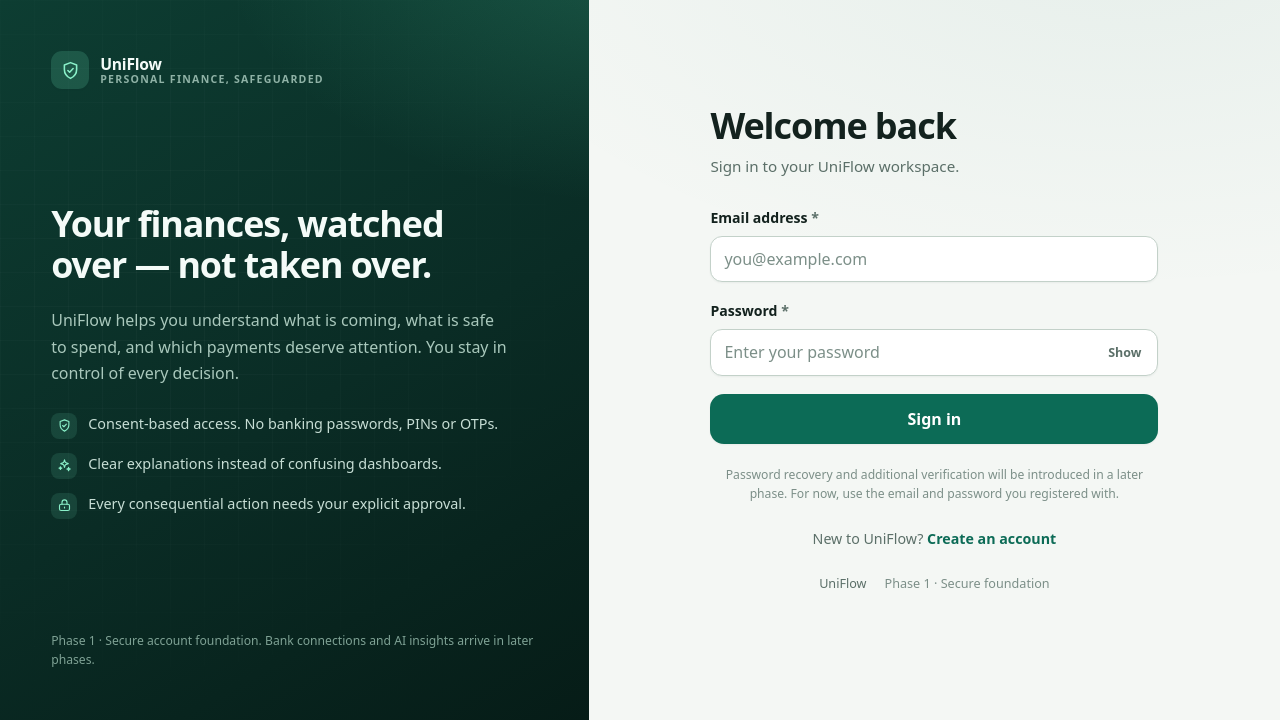
login form › validates empty fields
Step 1. Click the button "Sign in" → x=934, y=419, box [710, 394, 1158, 444]
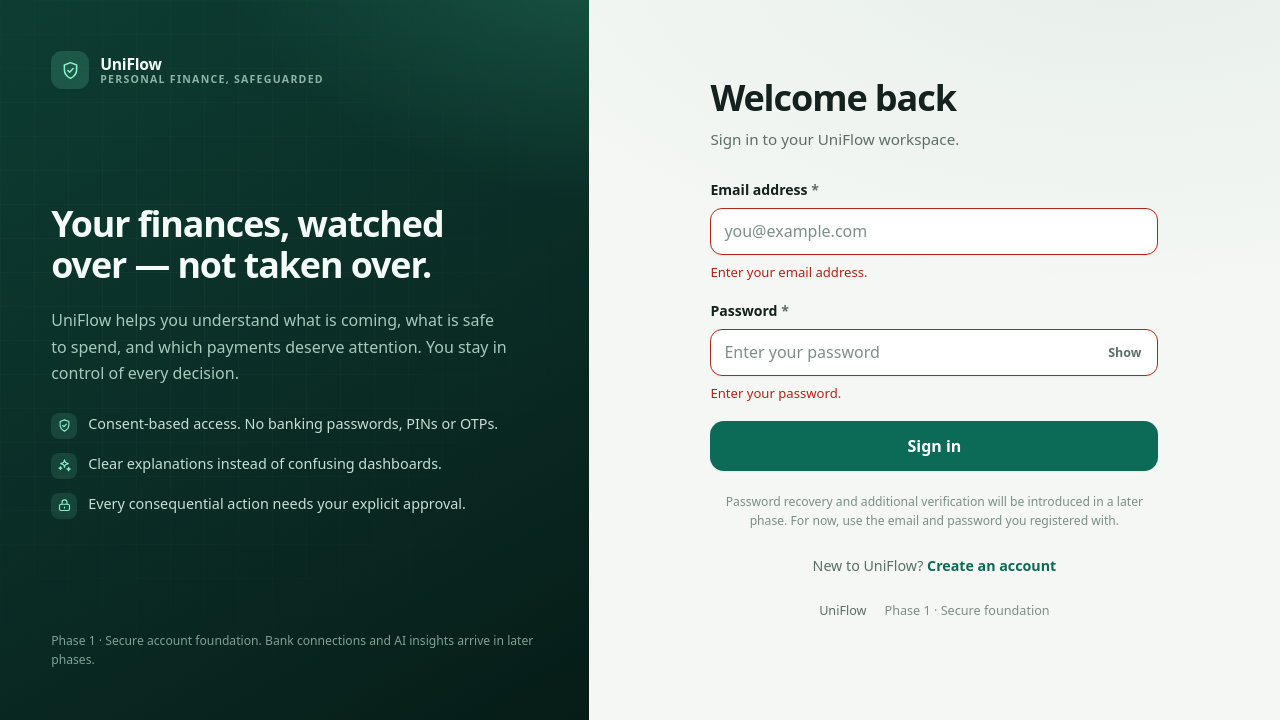
Expected: the text "Enter your email address." is shown, [710, 263, 868, 281]
Expected: the text "Enter your password." is shown, [710, 384, 841, 402]
